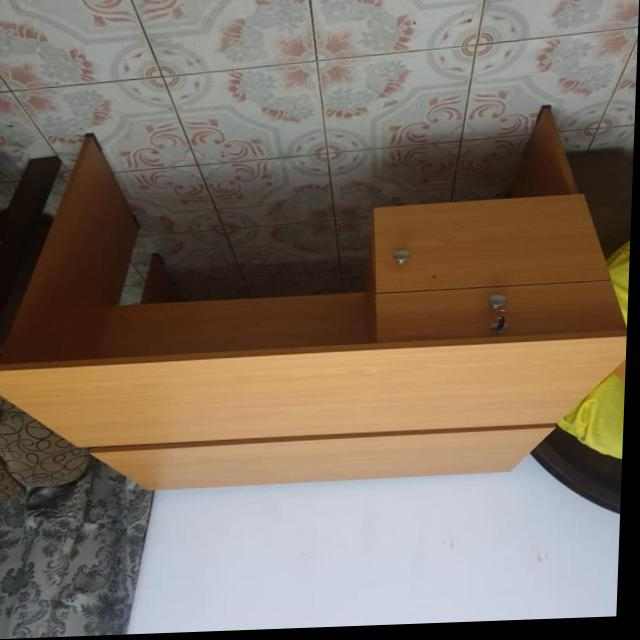Table: (0, 68, 635, 516)
